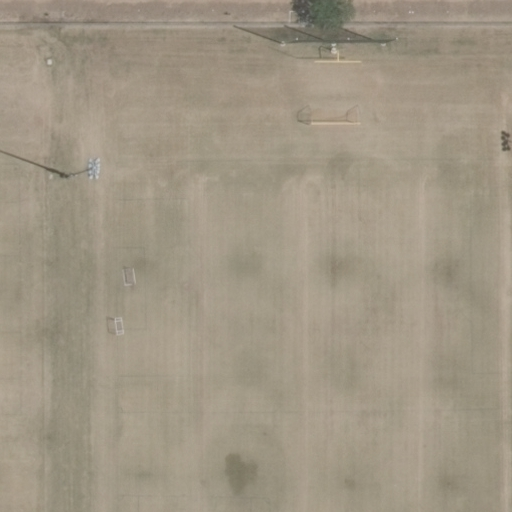DT: (83, 158, 107, 182)
